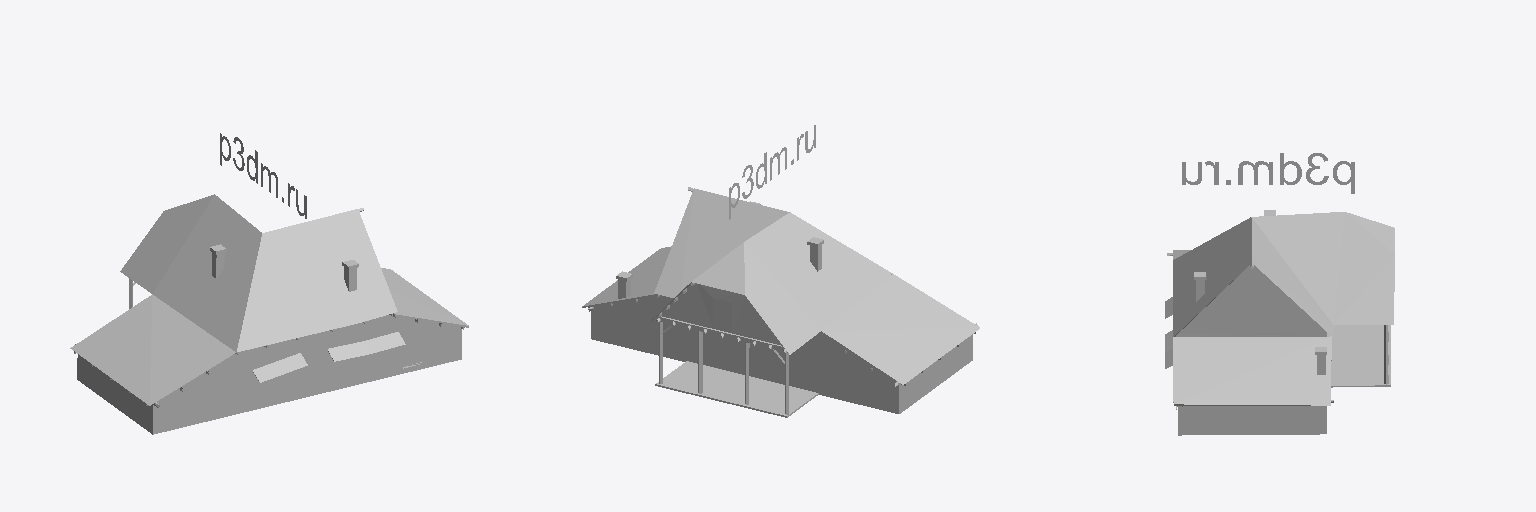
The model's file is p3dm.ru_Private house.obj.
3 renders of one model, left to right at view 1: azimuth 30°, elevation 25°; view 2: azimuth 150°, elevation 25°; view 3: azimuth 270°, elevation 25°, orthographic.
Visible parts, largest first — view 1: DrawCall_0125, Text001; view 2: DrawCall_0125, Text001; view 3: DrawCall_0125, Text001.
Boxes of the visible parts, box(x1,y1,x2,y2) form: DrawCall_0125: box(70, 194, 468, 434); Text001: box(220, 133, 306, 218); DrawCall_0125: box(582, 187, 979, 417); Text001: box(729, 125, 815, 219); DrawCall_0125: box(1165, 210, 1394, 435); Text001: box(1182, 153, 1354, 193).
Bounding box in the file's own units: 17.62 × 10.9 × 10.95.